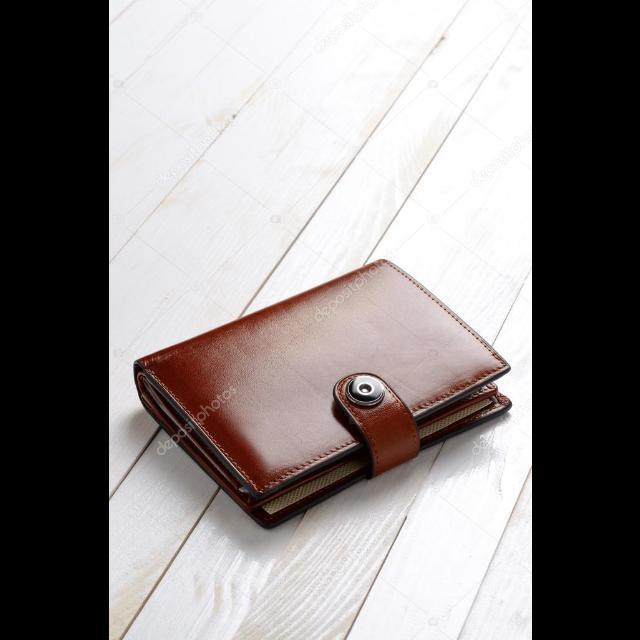wallet: (130, 260, 503, 540)
